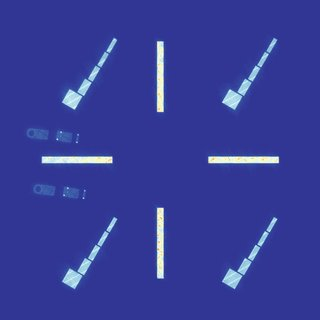overheated: (157, 40, 164, 112), (208, 156, 279, 163), (157, 208, 164, 278), (42, 157, 113, 163)
